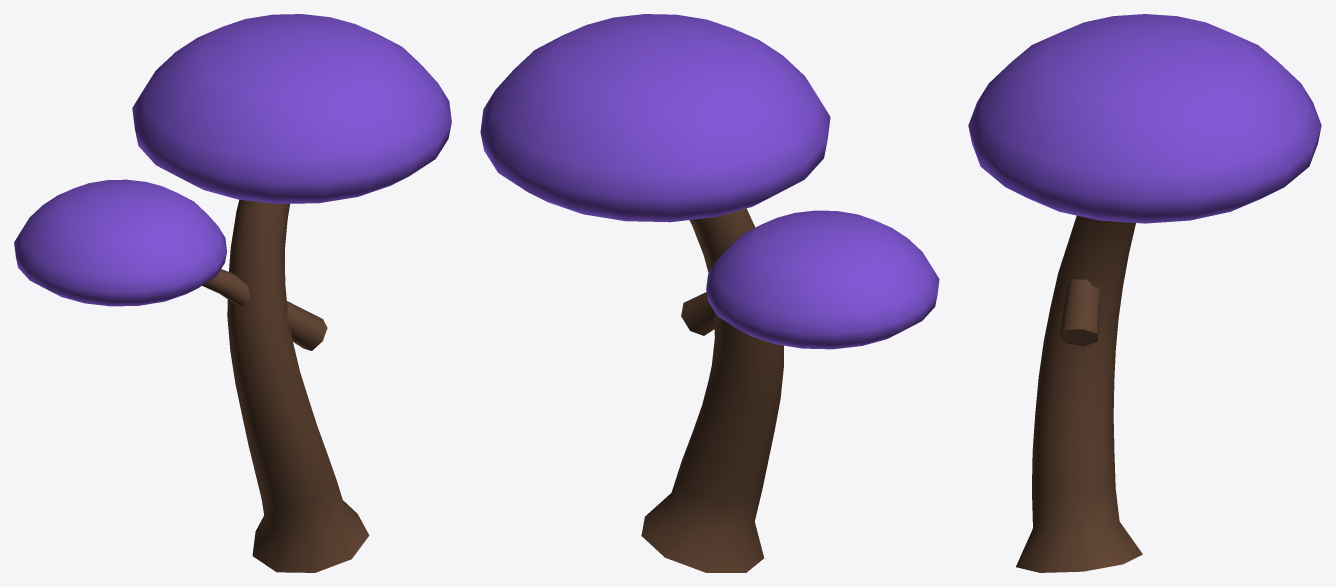
File: ArbolMutanteB.fbx
3 renders of one model, left to right at view 1: azimuth 30°, elevation 25°; view 2: azimuth 150°, elevation 25°; view 3: azimuth 270°, elevation 25°, orthographic. The views are drawn at different scales.
Parts seen in each view (by area): view 1: ArbolMutanteB_Copas, ArbolMutanteB_Tronco; view 2: ArbolMutanteB_Copas, ArbolMutanteB_Tronco; view 3: ArbolMutanteB_Copas, ArbolMutanteB_Tronco.
Boxes of the visible parts, x1,y1,x2,y2 form: ArbolMutanteB_Copas: (14, 14, 451, 306); ArbolMutanteB_Tronco: (202, 199, 369, 572); ArbolMutanteB_Copas: (480, 14, 939, 349); ArbolMutanteB_Tronco: (641, 208, 783, 572); ArbolMutanteB_Copas: (968, 14, 1321, 223); ArbolMutanteB_Tronco: (1016, 215, 1142, 572).
Bounding box in the file's own units: 12.15 × 14.39 × 8.58.
